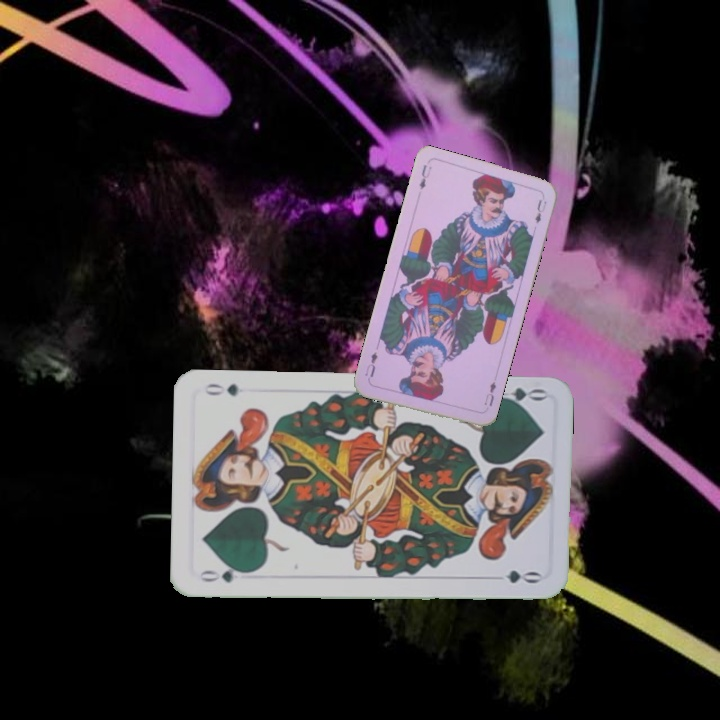EU: (480, 377, 499, 409), (415, 161, 434, 192)
GO: (488, 383, 547, 410), (195, 563, 254, 586)
